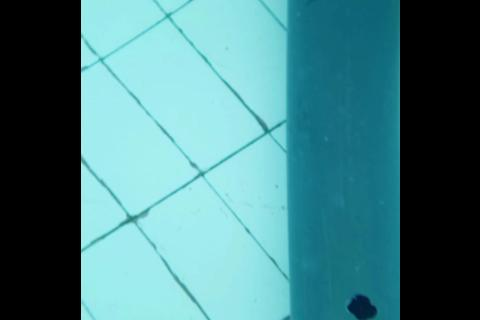kebocoran: (345, 293, 377, 320)
